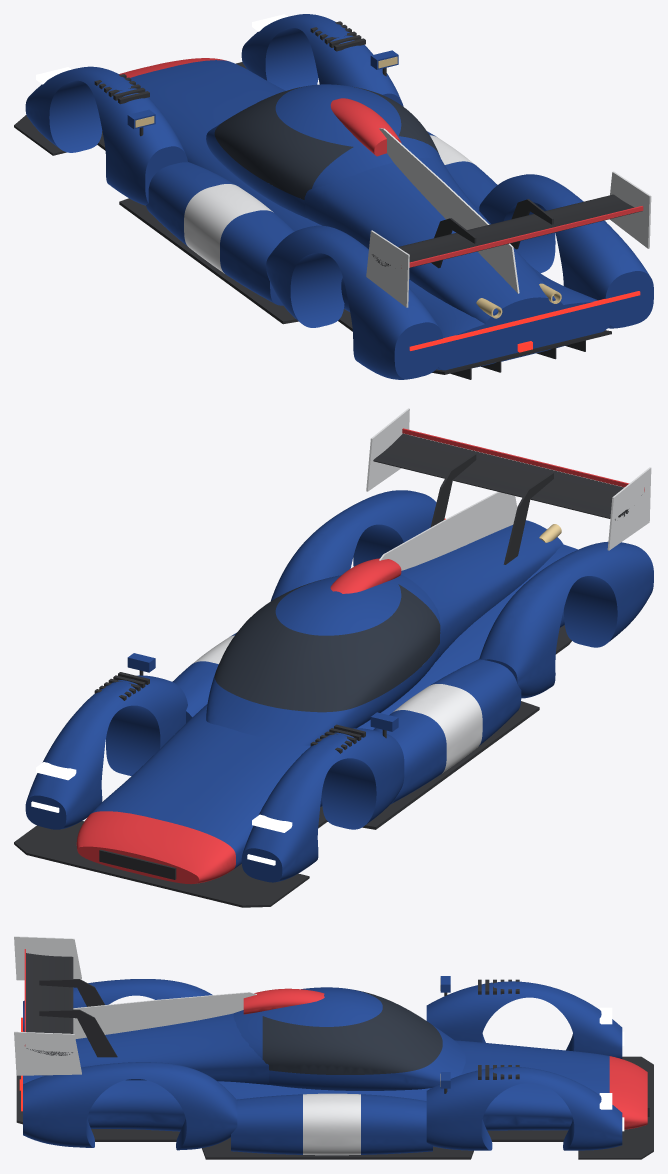
File: body.glb
3 views of the same model, one above another, from view 1: azimuth 30°, elevation 25°; view 2: azimuth 150°, elevation 25°; view 3: azimuth 270°, elevation 25° (orthographic). The views are drawn at different scales.
Parts seen in each view (by area): view 1: Livery, LiveryWhite, Carbon, Glass, Accent, Light, Metal; view 2: Livery, Carbon, Glass, LiveryWhite, Accent, Headlight; view 3: Livery, Carbon, LiveryWhite, Glass, Accent, Headlight.
Boxes of the visible parts, x1=… form: Livery: x1=25, y1=14, x2=653, y2=379; LiveryWhite: x1=184, y1=128, x2=651, y2=307; Carbon: x1=14, y1=21, x2=642, y2=379; Glass: x1=214, y1=86, x2=438, y2=199; Accent: x1=119, y1=58, x2=643, y2=268; Light: x1=409, y1=291, x2=640, y2=352; Metal: x1=135, y1=56, x2=561, y2=318; Livery: x1=25, y1=490, x2=653, y2=882; Carbon: x1=14, y1=433, x2=641, y2=907; Glass: x1=214, y1=578, x2=440, y2=712; LiveryWhite: x1=192, y1=408, x2=651, y2=773; Accent: x1=76, y1=428, x2=644, y2=884; Headlight: x1=31, y1=762, x2=292, y2=865; Livery: x1=23, y1=976, x2=622, y2=1154; Carbon: x1=16, y1=953, x2=653, y2=1159; LiveryWhite: x1=14, y1=936, x2=360, y2=1155; Glass: x1=262, y1=990, x2=442, y2=1074; Accent: x1=24, y1=949, x2=647, y2=1129; Headlight: x1=599, y1=1007, x2=624, y2=1131.
Size of the model in its own units: 2 by 1.09 by 5.07.
